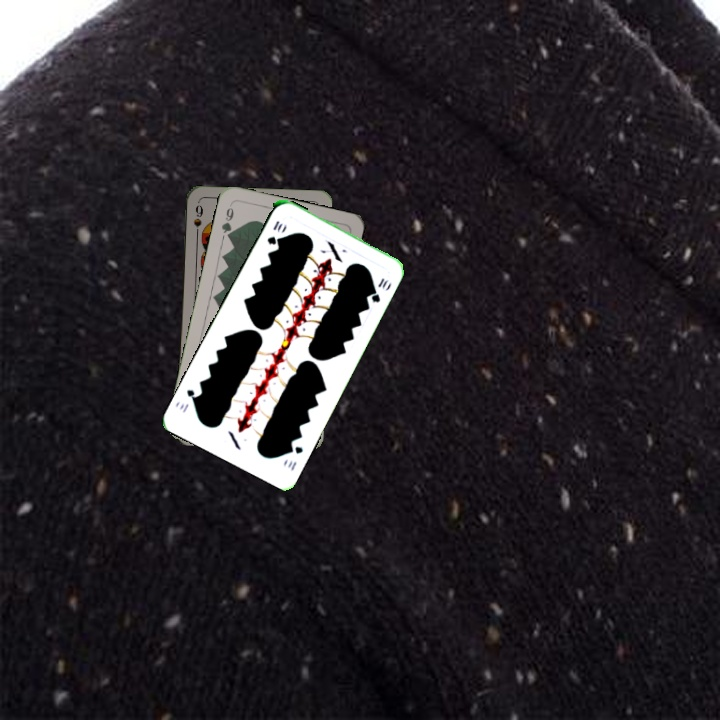G10: (283, 441, 306, 474), (263, 216, 285, 247)
G9: (217, 200, 236, 241)
S9: (189, 200, 205, 241)
